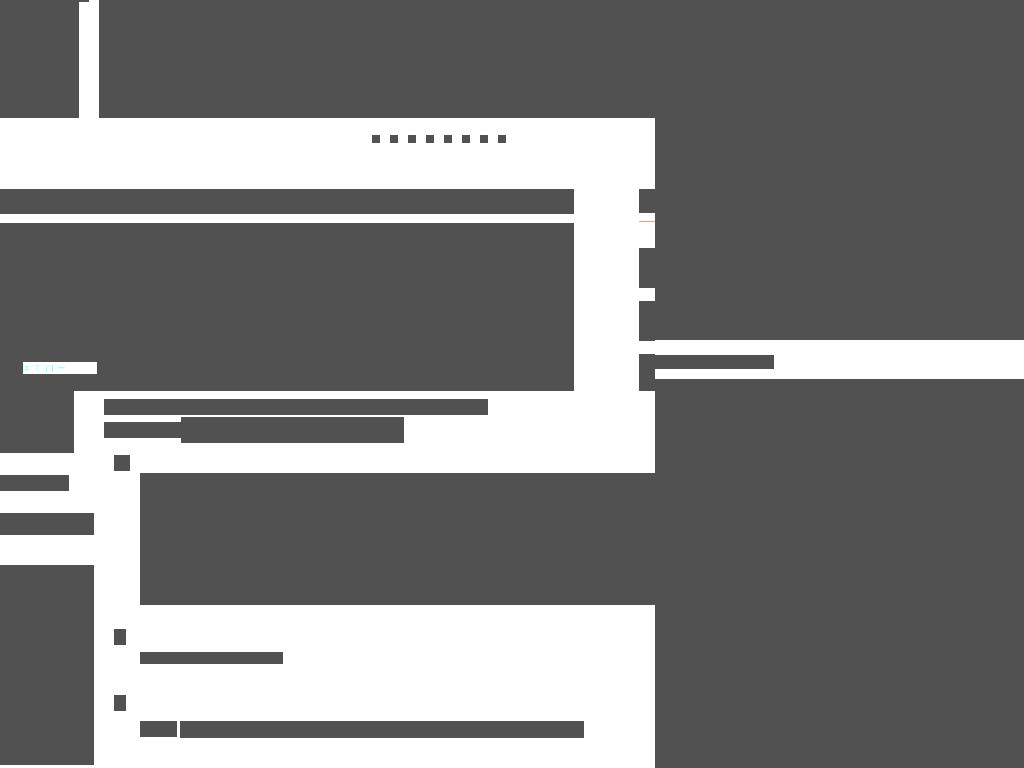button: (99, 0, 655, 118), (97, 223, 257, 391), (256, 223, 416, 391), (415, 223, 574, 391), (825, 491, 1024, 587), (0, 223, 98, 391), (655, 491, 792, 587), (0, 0, 79, 118), (180, 721, 584, 738), (372, 135, 380, 143), (390, 135, 398, 143), (408, 135, 416, 143), (426, 135, 434, 143), (444, 135, 452, 143), (462, 135, 470, 143), (480, 135, 488, 143), (498, 135, 506, 143)
field: (181, 417, 404, 443)
heading: (140, 473, 655, 539), (140, 539, 655, 605), (825, 492, 1024, 585), (0, 189, 574, 214), (655, 492, 789, 585), (655, 443, 1024, 475), (107, 335, 247, 359), (266, 335, 406, 359), (425, 335, 564, 359), (0, 335, 88, 359), (0, 513, 94, 535), (655, 391, 810, 404)
iframe: (655, 391, 1024, 768), (0, 565, 94, 765)
image: (655, 0, 1024, 340), (99, 0, 655, 118), (127, 223, 228, 323), (285, 223, 386, 323), (444, 223, 545, 323), (0, 0, 79, 118), (0, 223, 69, 323)
link: (655, 379, 1024, 391), (655, 355, 774, 369), (23, 362, 145, 374), (266, 362, 388, 374), (425, 362, 496, 374), (148, 362, 207, 374), (244, 652, 283, 664), (0, 362, 19, 374)
text: (825, 601, 1024, 636), (655, 601, 789, 636), (264, 399, 488, 415), (104, 399, 265, 415), (107, 364, 247, 381), (266, 382, 406, 391), (140, 652, 245, 664), (425, 382, 564, 391), (104, 422, 181, 438), (0, 475, 69, 491), (825, 601, 892, 616), (0, 382, 88, 391), (140, 721, 177, 737), (114, 455, 130, 471), (114, 629, 126, 645), (114, 695, 126, 711), (660, 601, 666, 616), (900, 601, 906, 616)
